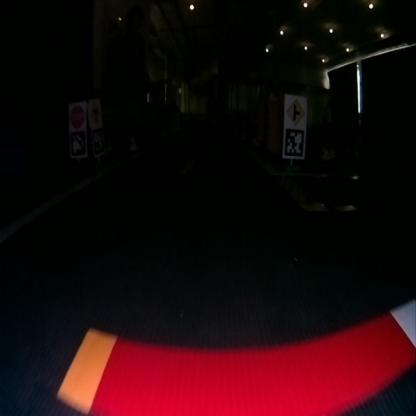Intersection sign: (286, 97, 304, 124)
QR code: (284, 128, 303, 157), (71, 132, 86, 154), (92, 128, 104, 154)
Stop sign: (69, 103, 84, 128)
